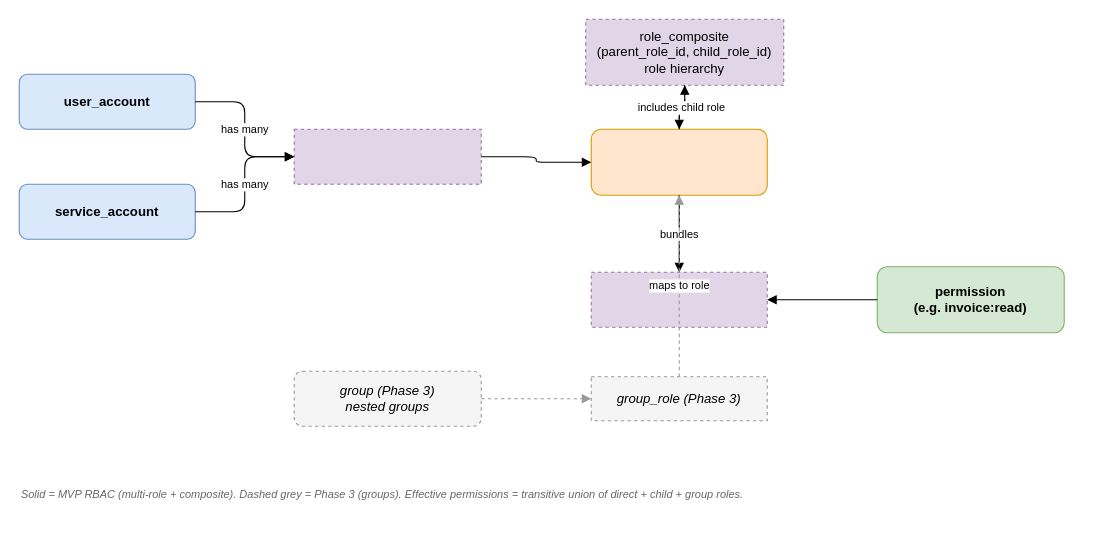
Some shapes in this 1095 by 534 pixel diagram are drawn without their labels. The shapes that lost their labels are listed below. From the top down, each one's centre as x and y in pixels, then its label:
At (387,156): "user_role (grant; many-to-many)".
At (678,161): "role (is_composite)".
At (678,299): "role_permission (many-to-many)".
